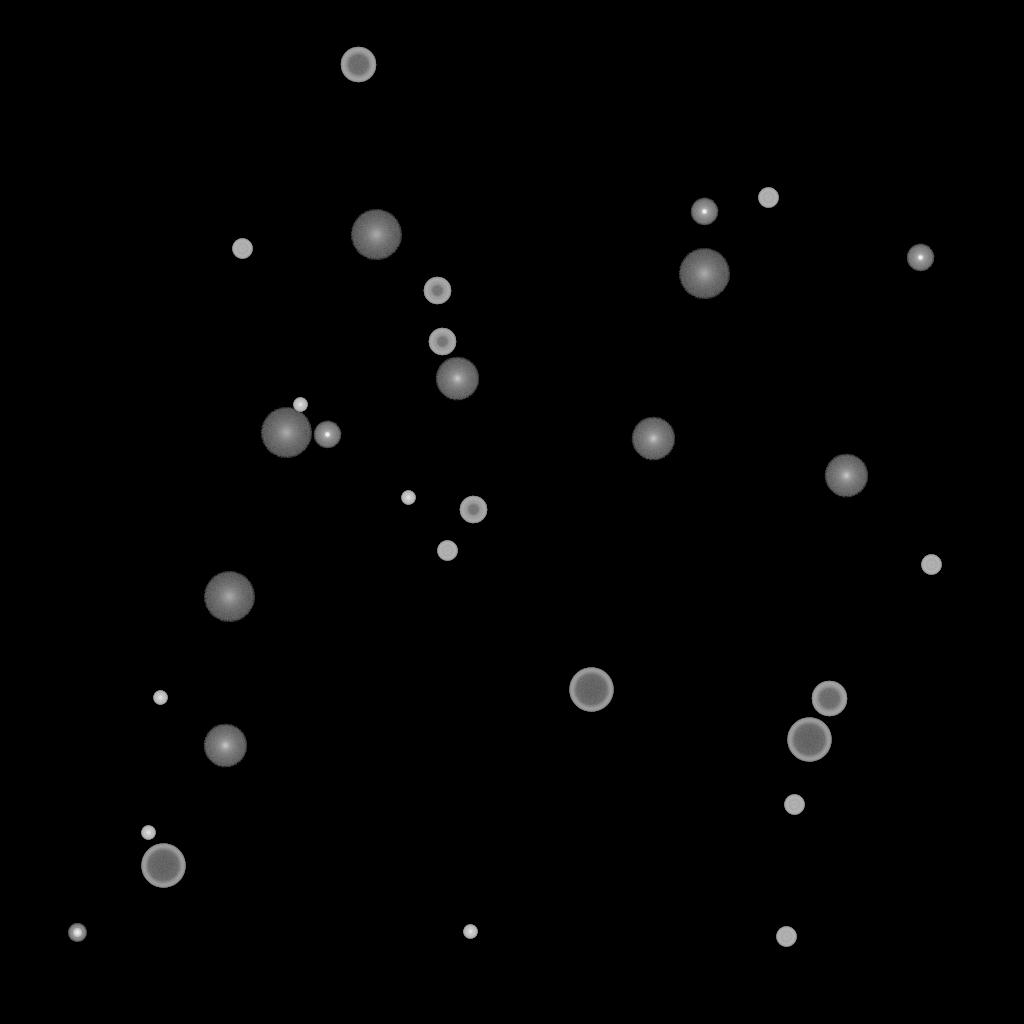depth:-10: (313, 421, 341, 449), (690, 198, 718, 226), (906, 244, 934, 272)
depth:-20: (68, 924, 86, 942)
depth:-30: (401, 491, 415, 505), (141, 826, 155, 840), (463, 925, 477, 939), (153, 691, 167, 705), (293, 398, 307, 412)
depth:-40: (921, 555, 941, 575), (784, 795, 804, 815), (232, 239, 252, 259), (758, 188, 778, 208), (776, 927, 796, 947), (437, 541, 457, 561)
depth:-50: (423, 277, 451, 305), (459, 496, 487, 524), (428, 328, 456, 356)
depth:-60: (340, 47, 376, 83), (811, 681, 847, 717)
depth:-70: (569, 668, 613, 712), (141, 844, 185, 888), (787, 718, 831, 762)
depth:10: (631, 417, 675, 461), (203, 724, 247, 768), (824, 454, 868, 498), (435, 357, 479, 401)
depth:20: (350, 210, 402, 260), (678, 249, 730, 299), (203, 572, 255, 622), (260, 408, 312, 458)
